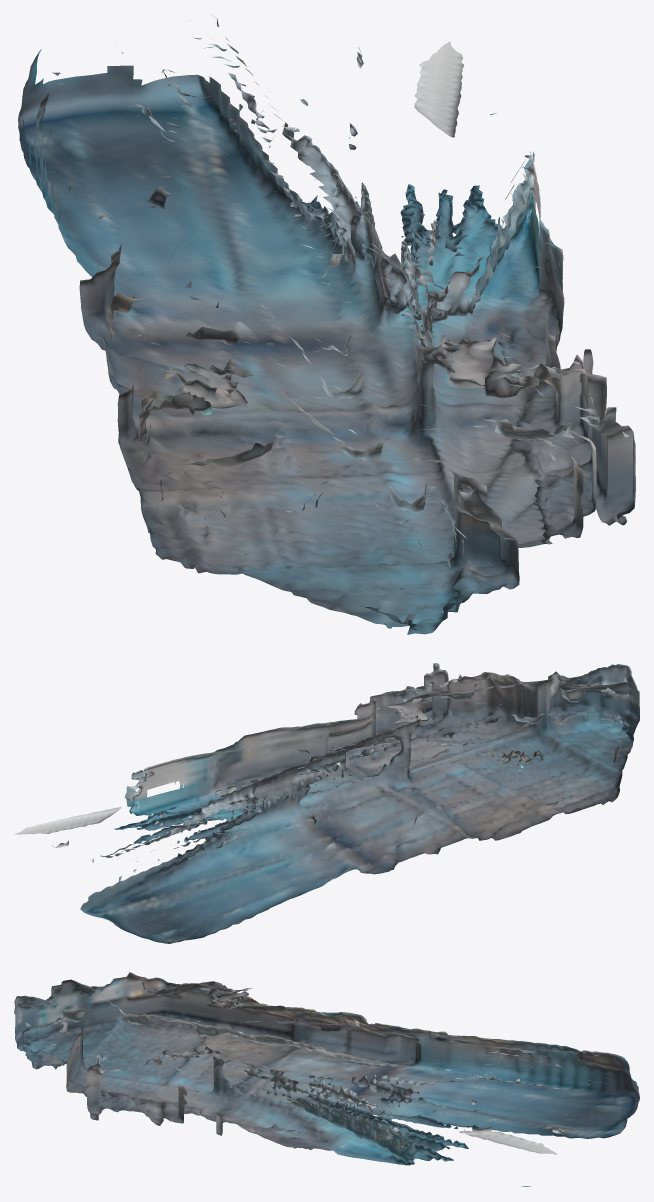
Rendered from car_studio_v2_collider_mesh.glb.
3 views of the same model, one above another, from view 1: azimuth 30°, elevation 25°; view 2: azimuth 150°, elevation 25°; view 3: azimuth 270°, elevation 25° (orthographic). The views are drawn at different scales.
Parts seen in each view (by area): view 1: world; view 2: world; view 3: world.
Boxes of the visible parts, bbox=[...] form: world: bbox=[18, 17, 635, 634]; world: bbox=[14, 663, 639, 943]; world: bbox=[14, 972, 639, 1186].
Bounding box in the file's own units: 10.67 × 1.75 × 16.35.
